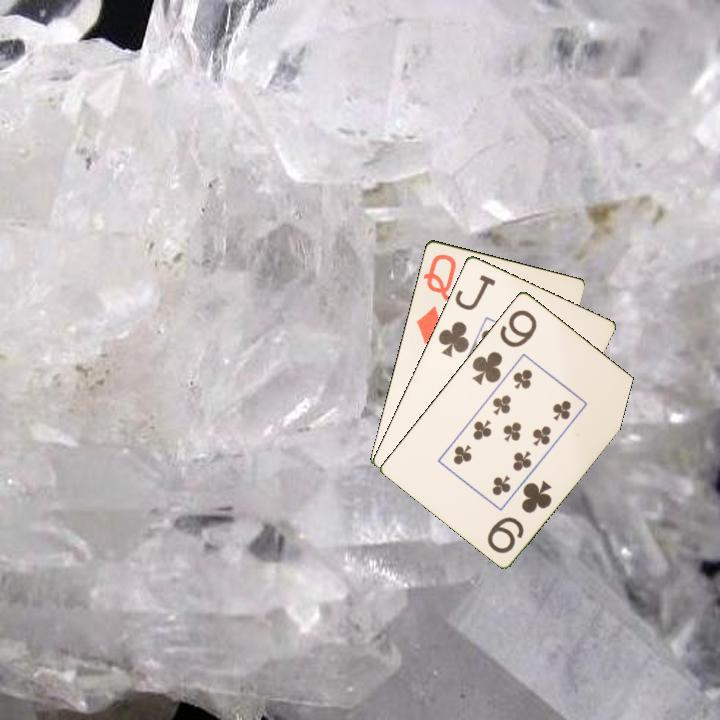9c: (468, 305, 540, 388), (483, 476, 555, 556)
Jc: (434, 270, 498, 360)
Qd: (412, 250, 459, 347)
